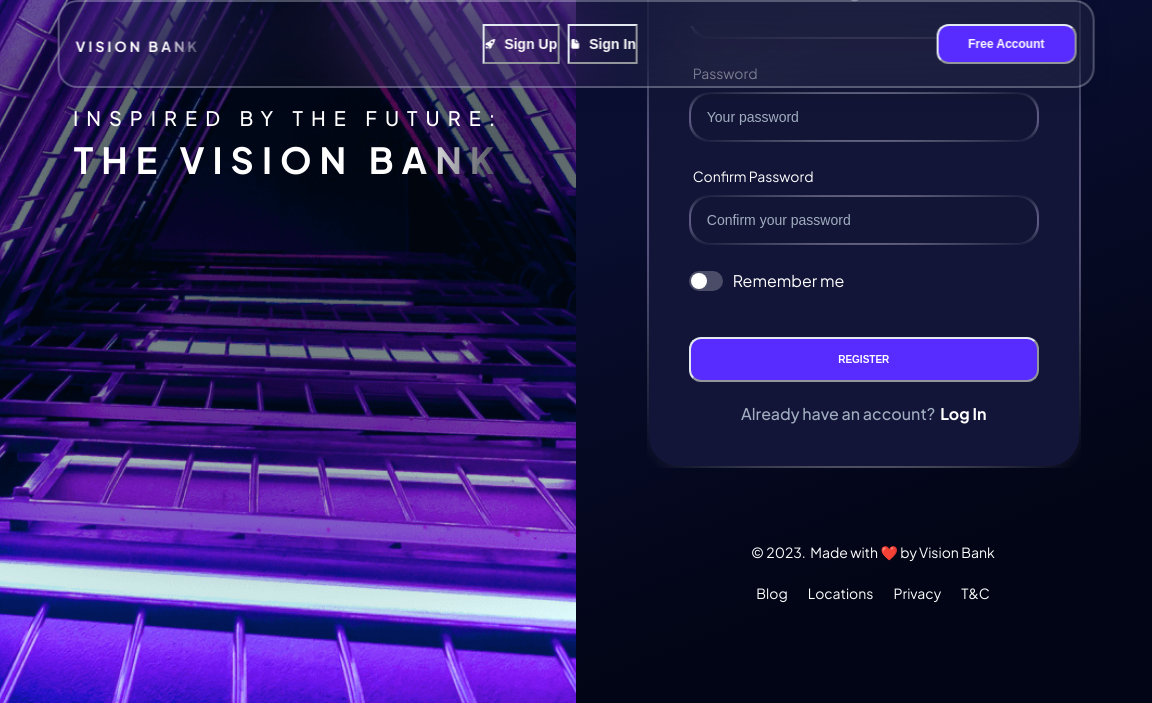
Register Page › Register Page: should render error message when Sign In button is clicked without entering any values
(page scrolled)
Click the button with test id "register-button": [864, 360] box top-left (689, 337), bottom-right (1039, 382)
(page scrolled)
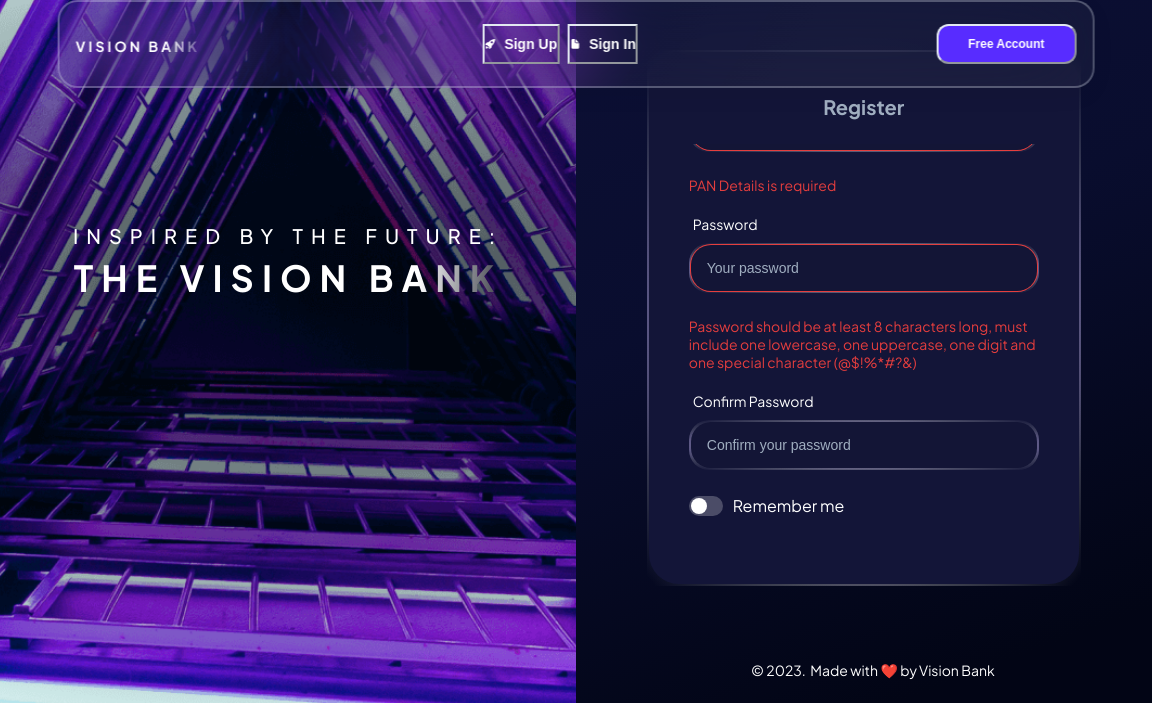
Expected: the text "PAN Details is required" is shown, top-left (689, 176), bottom-right (836, 194)
Expected: the text "Password should be at least 8 characters long" is shown, top-left (689, 317), bottom-right (1036, 371)
